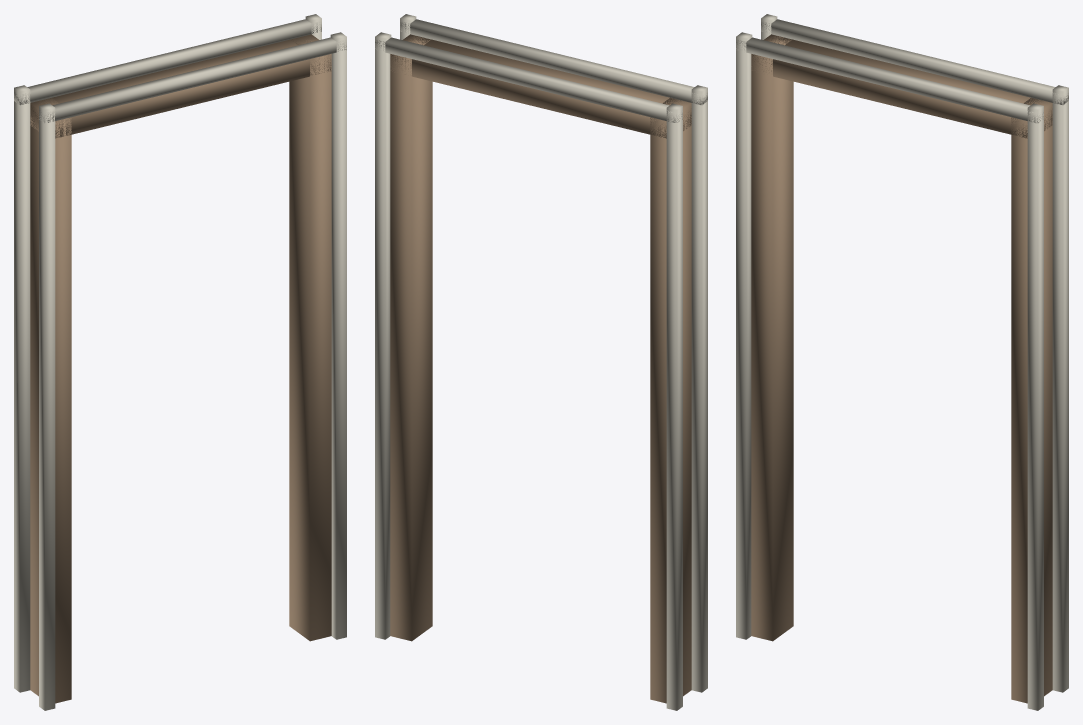
The model's file is doorway_painted_trim_w106_h240_d16.glb.
3 renders of one model, left to right at view 1: azimuth 30°, elevation 25°; view 2: azimuth 150°, elevation 25°; view 3: azimuth 330°, elevation 25°, orthographic.
Parts seen in each view (by area): view 1: world; view 2: world; view 3: world.
Part boxes in pixels (x1,y1,x2,y2): world: (14,14,346,710); world: (375,14,707,710); world: (736,14,1068,710).
Size of the model in its own units: 1.34 by 2.55 by 0.2378.
